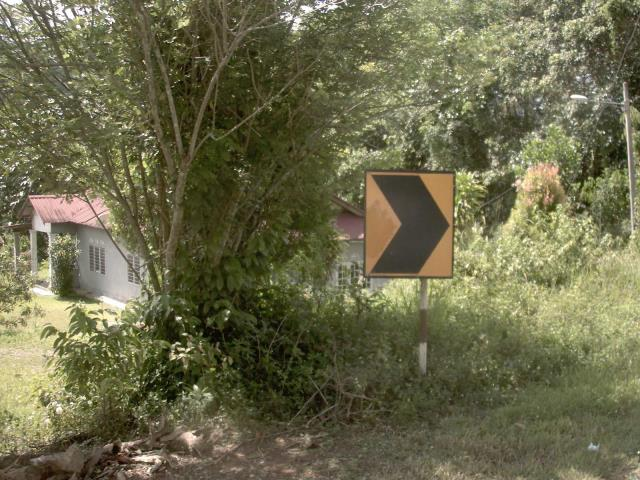traffic_sign: (353, 152, 465, 294)
